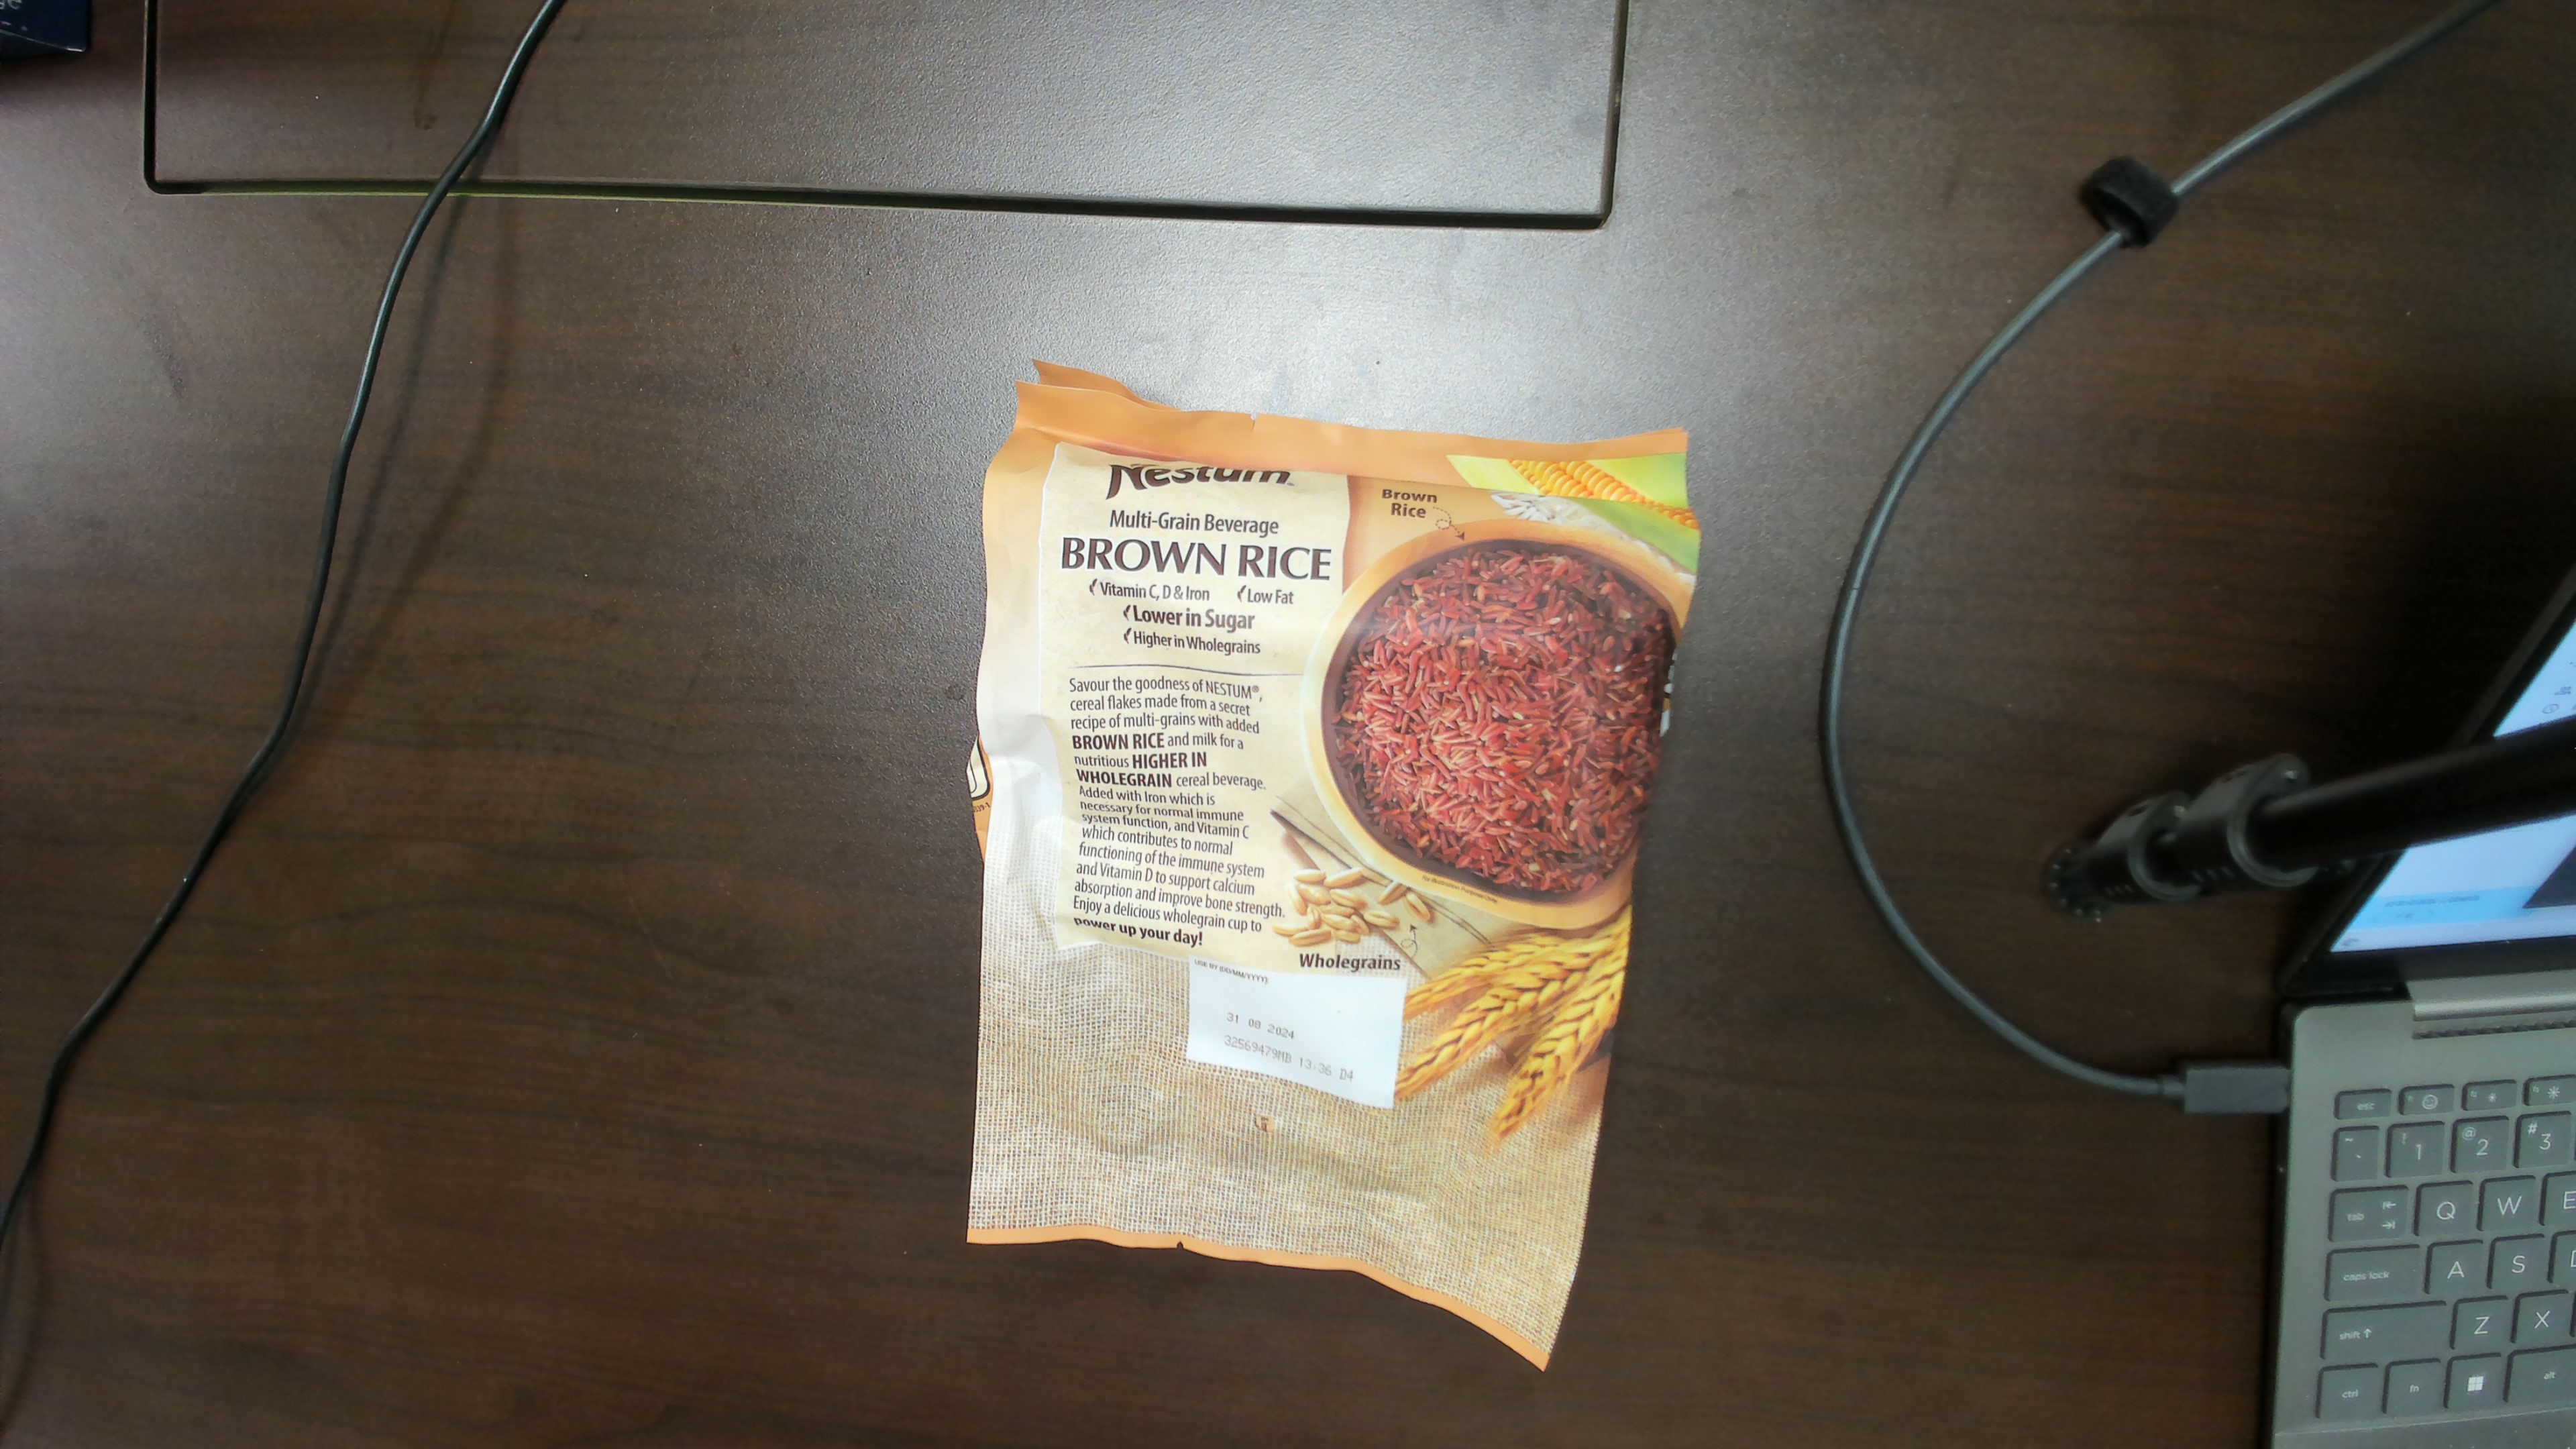CerealBeverage-powder_300-399g_NonHalal_Healthy: (1046, 455, 1589, 1120)
